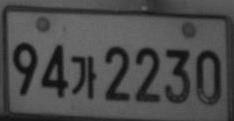0: (194, 49, 222, 105)
2: (103, 45, 130, 100), (135, 46, 160, 103)
3: (164, 48, 191, 103)
4: (41, 44, 69, 98)
9: (12, 41, 38, 95)
가: (70, 55, 97, 99)
